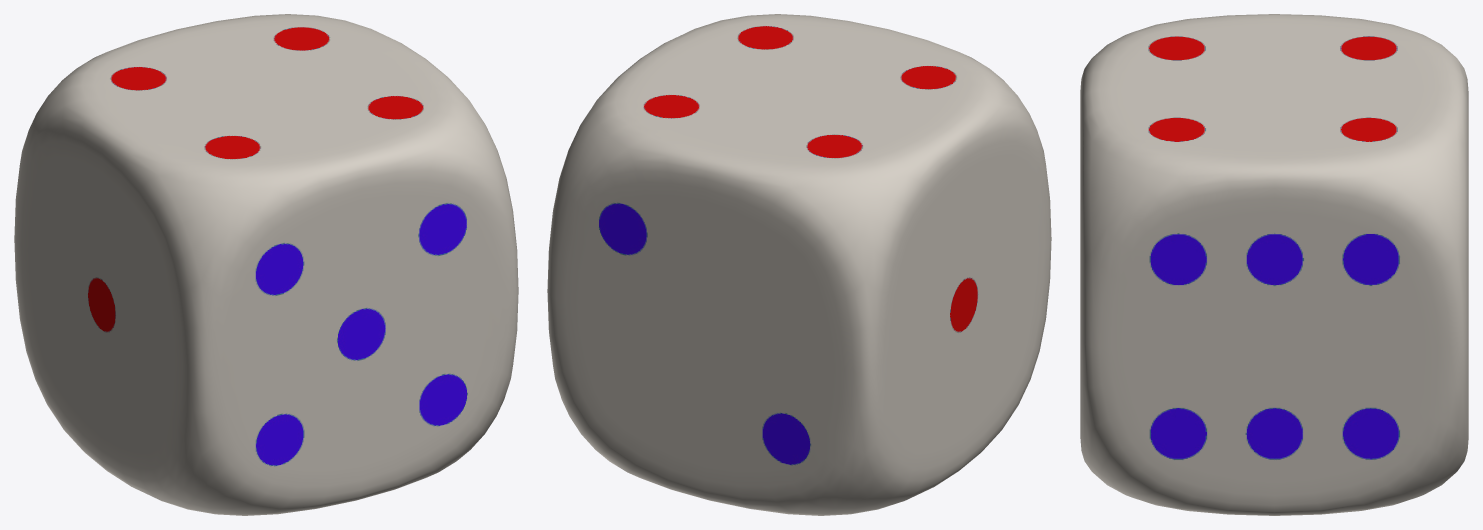
File: Mahjong_touzi.FBX
3 renders of one model, left to right at view 1: azimuth 30°, elevation 25°; view 2: azimuth 150°, elevation 25°; view 3: azimuth 270°, elevation 25°, orthographic. The views are drawn at different scales.
Visible parts, largest first — view 1: Mahjong_touzi; view 2: Mahjong_touzi; view 3: Mahjong_touzi.
Part boxes in pixels (box(x1,y1,x2,y2)): Mahjong_touzi: box(14, 14, 518, 515); Mahjong_touzi: box(547, 14, 1051, 515); Mahjong_touzi: box(1080, 14, 1468, 515).
Bounding box in the file's own units: 40.02 × 40.02 × 40.
